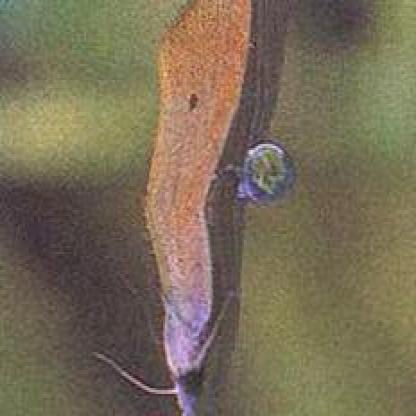stem-borer: (136, 0, 238, 416)
